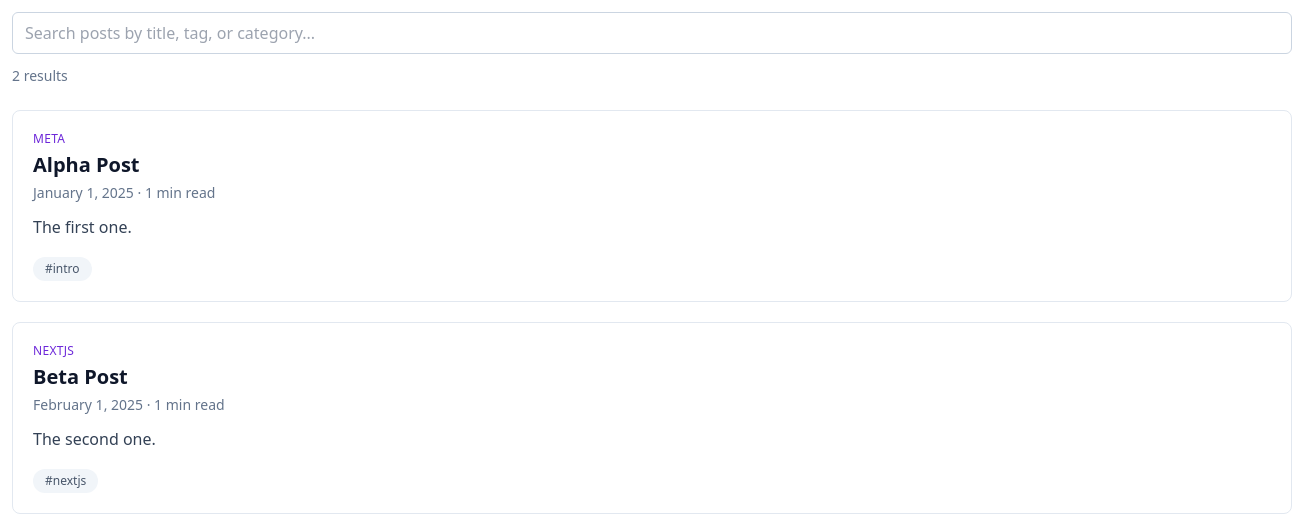
Test case: <PostSearch> › shows an empty state when nothing matches
The image size is (1304, 531).
Type "zzzznope" into the search field with placeholder "Search posts by title, tag, or category..." at {"x": 652, "y": 33}, box [12,12,1292,54]
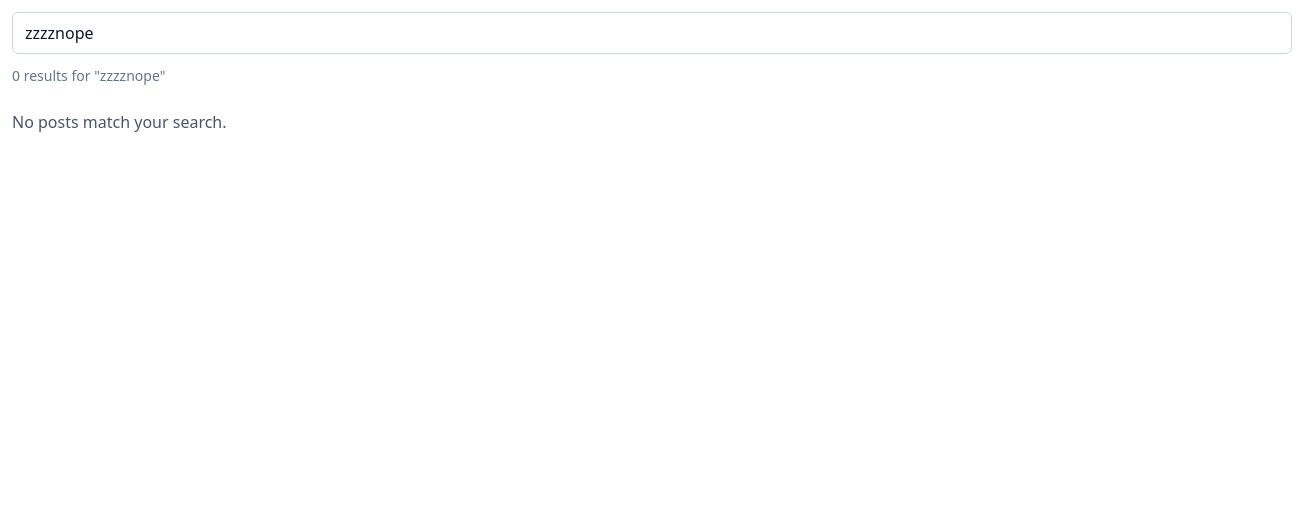
Result: the text "No posts match your search." is shown at [12,111,226,133]
